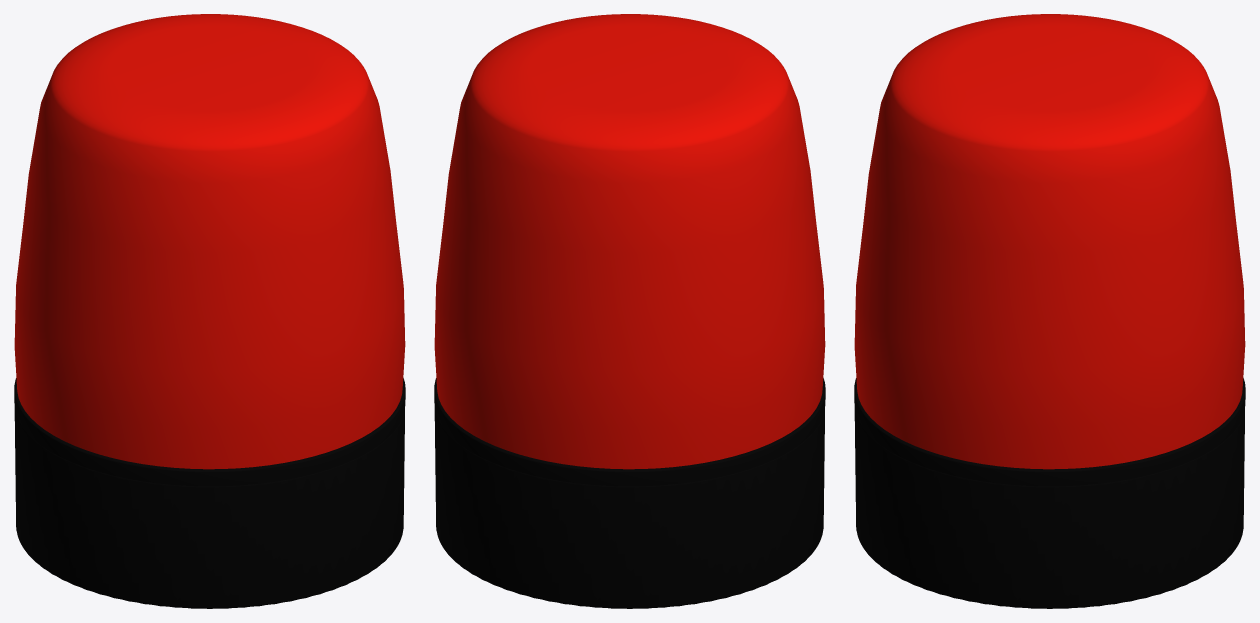
Rendered from emergency.glb.
3 renders of one model, left to right at view 1: azimuth 30°, elevation 25°; view 2: azimuth 150°, elevation 25°; view 3: azimuth 270°, elevation 25°, orthographic.
Parts seen in each view (by area): view 1: Cylinder.001_1, Cylinder_0; view 2: Cylinder.001_1, Cylinder_0; view 3: Cylinder.001_1, Cylinder_0.
Boxes of the visible parts, x1=… form: Cylinder.001_1: x1=14, y1=14, x2=405, y2=469; Cylinder_0: x1=14, y1=378, x2=405, y2=608; Cylinder.001_1: x1=434, y1=14, x2=825, y2=469; Cylinder_0: x1=434, y1=378, x2=825, y2=608; Cylinder.001_1: x1=854, y1=14, x2=1245, y2=469; Cylinder_0: x1=854, y1=378, x2=1245, y2=608.
Size of the model in its own units: 2.02 by 2.62 by 2.02.
